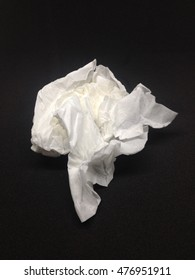Tissue: (26, 55, 179, 224)
